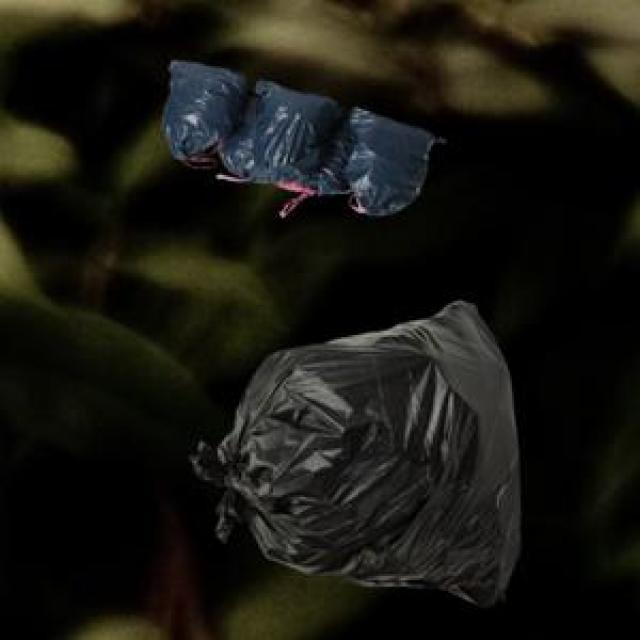waste: (191, 301, 520, 607), (164, 63, 438, 216)
